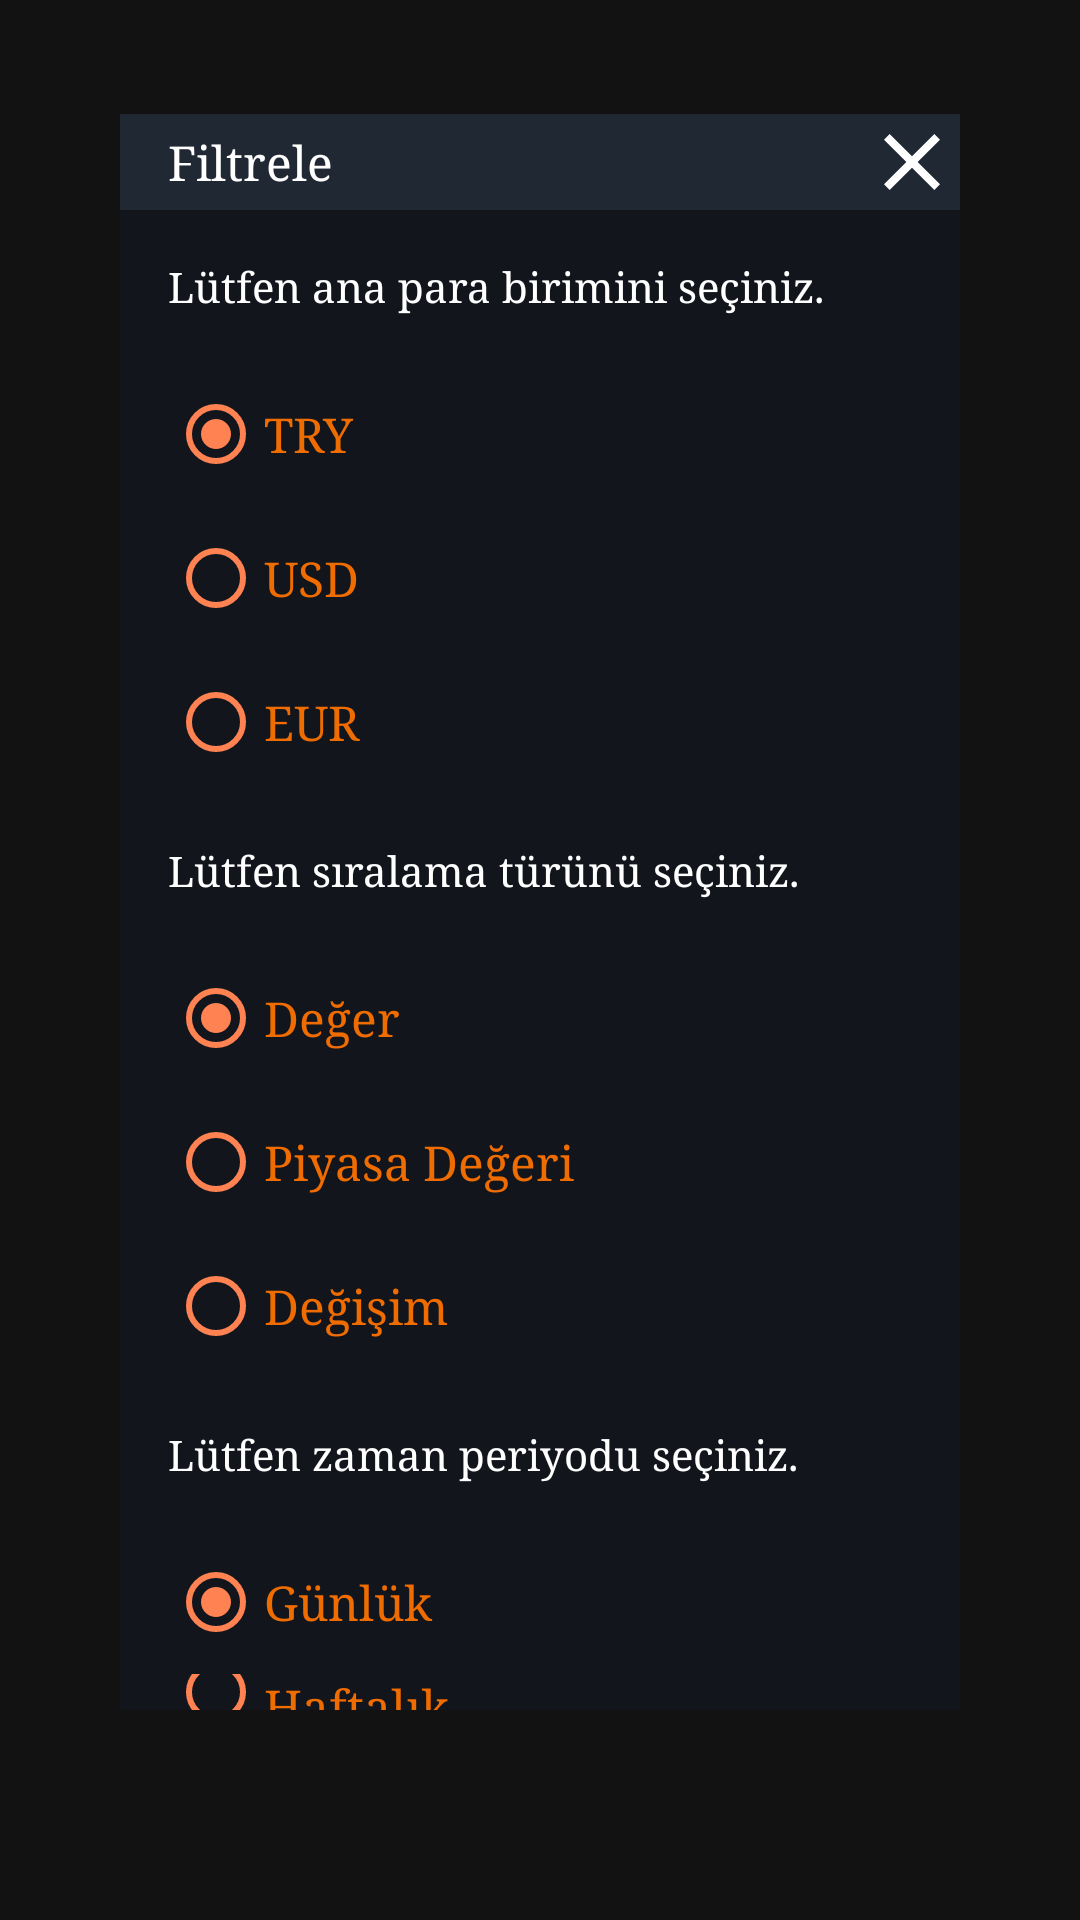

Named icons in this screenshot (1080 × 1920) and their bounding boxes, (x1, y1, x2, y2):
close: (864, 114, 960, 210)
